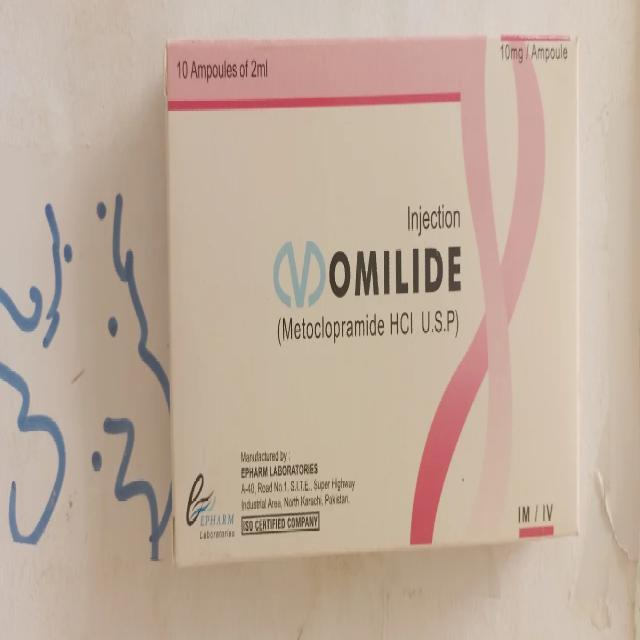drug-name: (270, 237, 466, 309)
